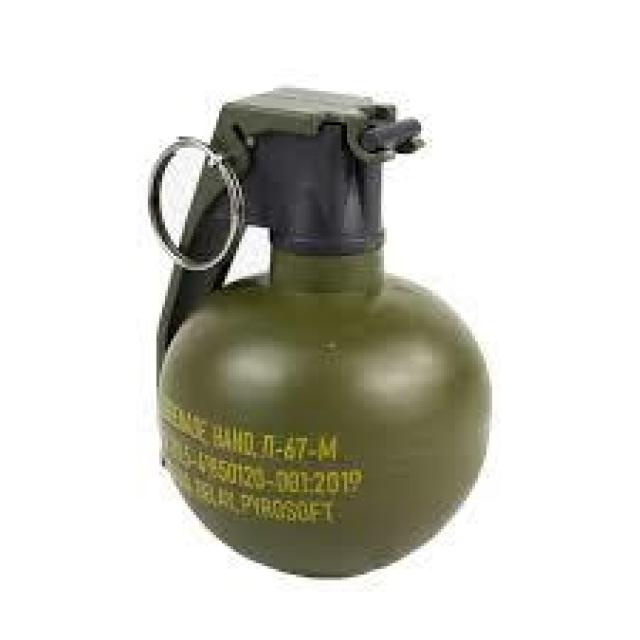grenade: (144, 78, 496, 585)
